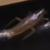cockroach: (5, 8, 46, 41)
